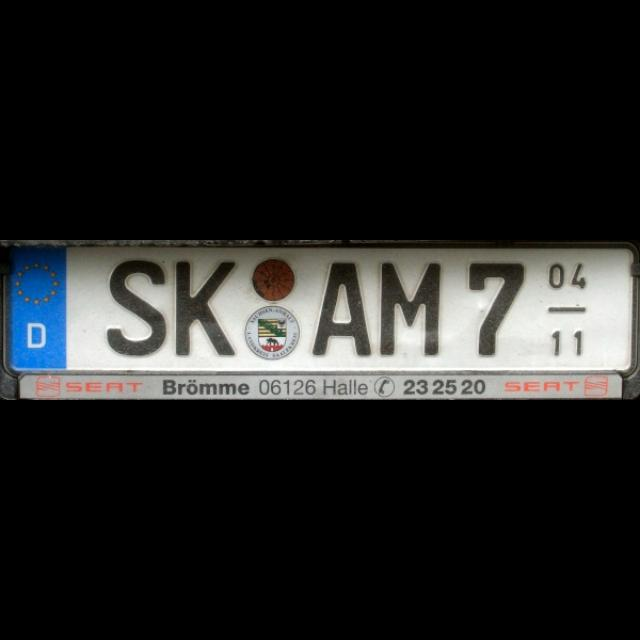d_license_plate: (5, 246, 633, 372)
